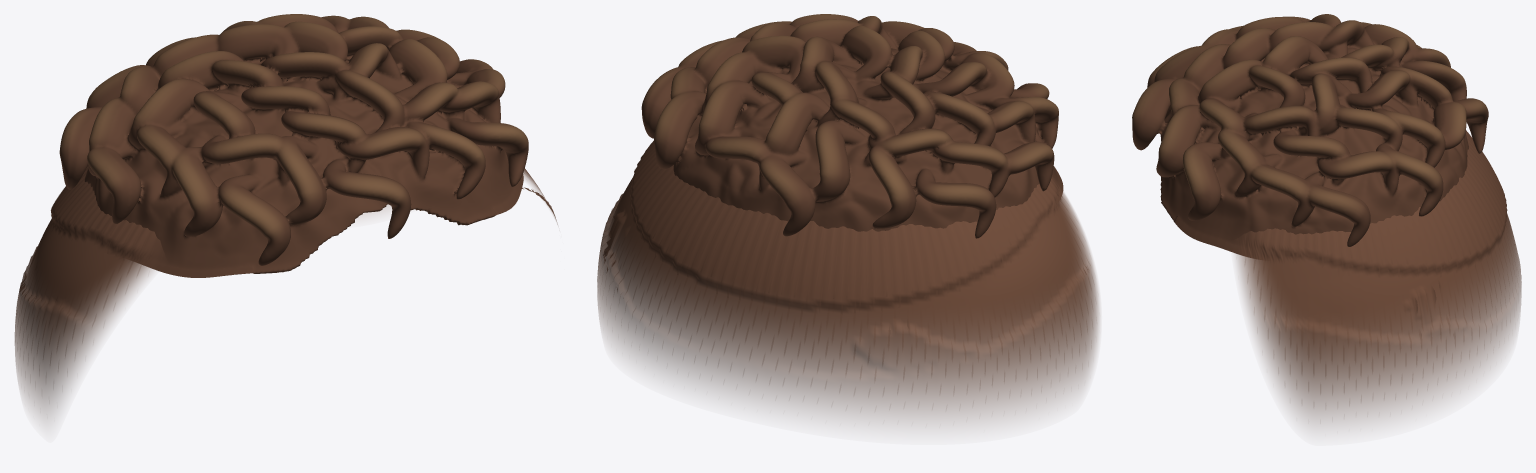
Rendered from Masculine-curly-top-headband257-hair-ombre.glb.
3 views of the same model, side by side, from view 1: azimuth 30°, elevation 25°; view 2: azimuth 150°, elevation 25°; view 3: azimuth 270°, elevation 25° (orthographic). The views are drawn at different scales.
Visible parts, largest first — view 1: 226 hair / Hair252 / sculpted curl groups, 226 hair / Hair257 / smooth side fade, 226 hair / Hair257 / directional fade marks; view 2: 226 hair / Hair257 / smooth side fade, 226 hair / Hair252 / sculpted curl groups, 226 hair / Hair257 / directional fade marks; view 3: 226 hair / Hair252 / sculpted curl groups, 226 hair / Hair257 / smooth side fade, 226 hair / Hair257 / directional fade marks.
Boxes of the visible parts, x1=… form: 226 hair / Hair252 / sculpted curl groups: x1=59, y1=14, x2=528, y2=277; 226 hair / Hair257 / smooth side fade: x1=15, y1=166, x2=557, y2=419; 226 hair / Hair257 / directional fade marks: x1=16, y1=170, x2=153, y2=370; 226 hair / Hair257 / smooth side fade: x1=597, y1=141, x2=1099, y2=424; 226 hair / Hair252 / sculpted curl groups: x1=641, y1=14, x2=1063, y2=238; 226 hair / Hair257 / directional fade marks: x1=602, y1=141, x2=1091, y2=393; 226 hair / Hair252 / sculpted curl groups: x1=1132, y1=14, x2=1488, y2=258; 226 hair / Hair257 / smooth side fade: x1=1234, y1=130, x2=1521, y2=426; 226 hair / Hair257 / directional fade marks: x1=1244, y1=130, x2=1507, y2=393.
Size of the model in its own units: 0.9723 by 0.665 by 0.7499.
